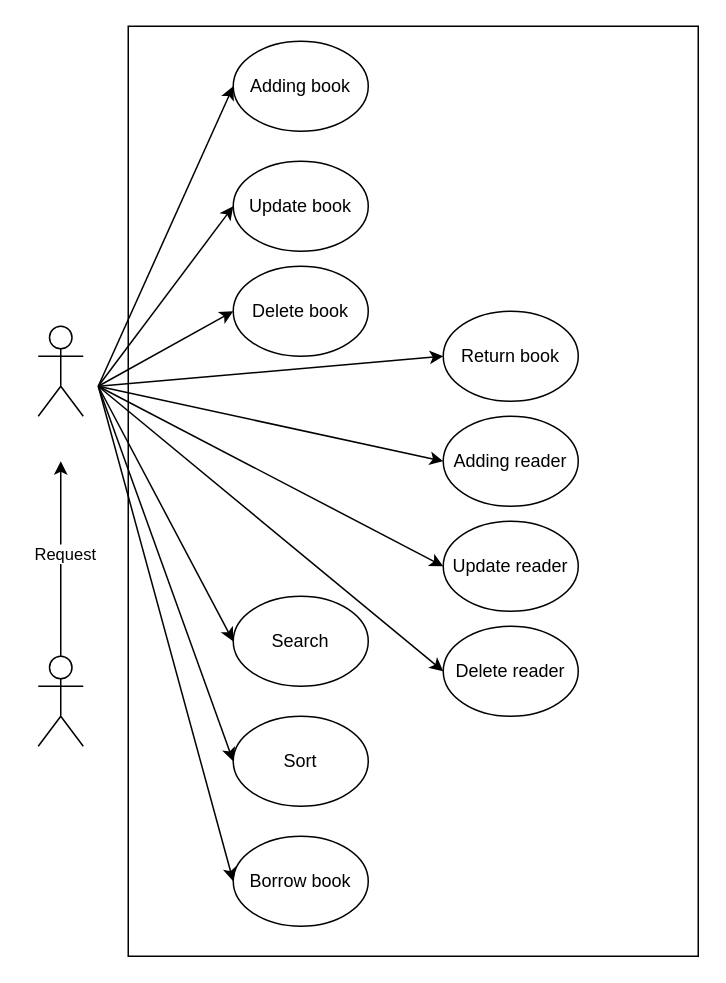
Image size: 726x983. Some labels were removed from this diagram. Here are the shapes that lost their labels. From the top down, the centre of each, then its label:
At point (60, 370): "Librarian".
At point (60, 700): "Reader".
